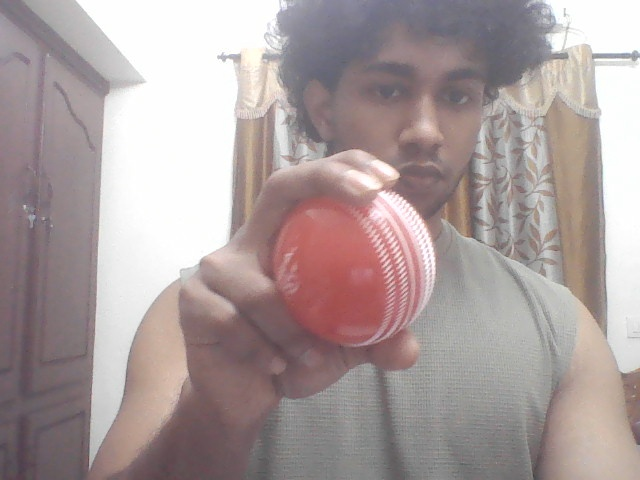cricket_ball: (265, 184, 443, 344)
